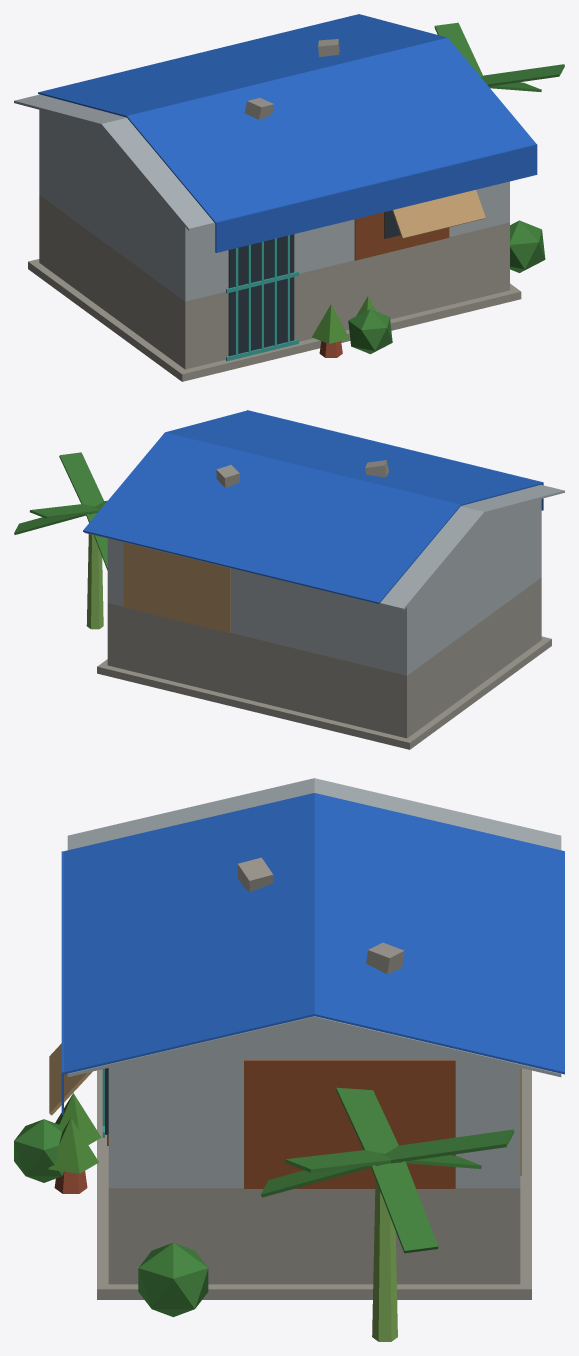
File: BAY_I_TarpShack_N.glb
3 renders of one model, top to bottom at view 1: azimuth 30°, elevation 25°; view 2: azimuth 150°, elevation 25°; view 3: azimuth 270°, elevation 25°, orthographic. The views are drawn at different scales.
Visible parts, largest first — view 1: BAY_I_TarpShack_N; view 2: BAY_I_TarpShack_N; view 3: BAY_I_TarpShack_N.
Boxes of the visible parts, <box> form: BAY_I_TarpShack_N: <box>14,14,564,381</box>; BAY_I_TarpShack_N: <box>14,410,564,749</box>; BAY_I_TarpShack_N: <box>14,778,564,1341</box>.
Size of the model in its own units: 6.55 by 2.76 by 4.69.
1 material, 1 textured.
